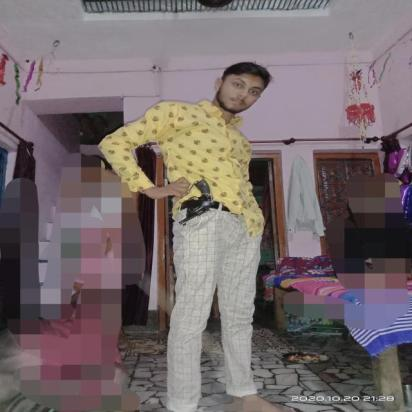Gun: (177, 178, 215, 227)
